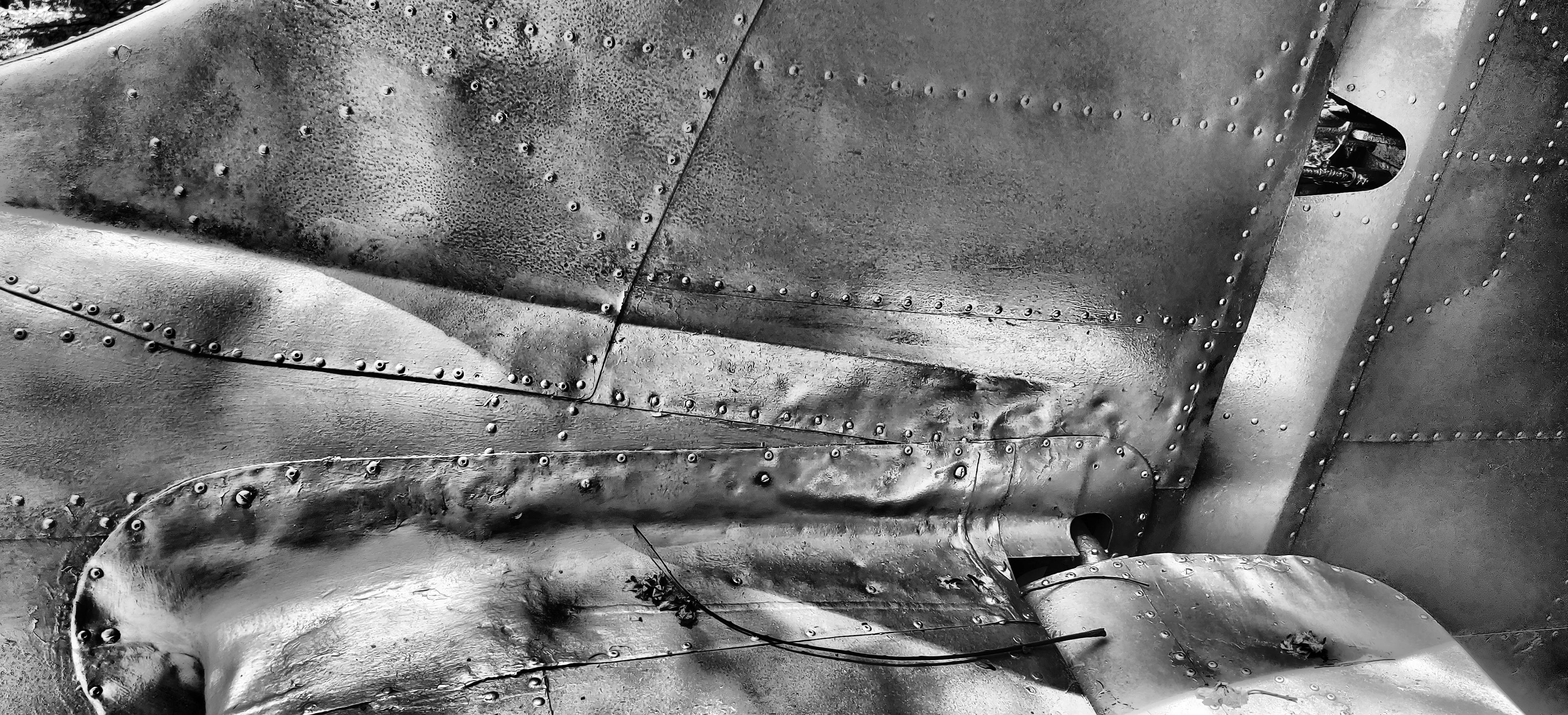dent: (777, 446, 941, 518), (70, 559, 134, 639), (987, 400, 1054, 454), (160, 648, 209, 708), (1287, 555, 1341, 591), (206, 665, 234, 693), (1092, 396, 1115, 412), (1165, 392, 1181, 415)
missing-head: (1094, 464, 1102, 471), (1368, 433, 1375, 440)
scratch: (388, 516, 407, 533), (487, 489, 506, 502), (321, 589, 337, 600)
